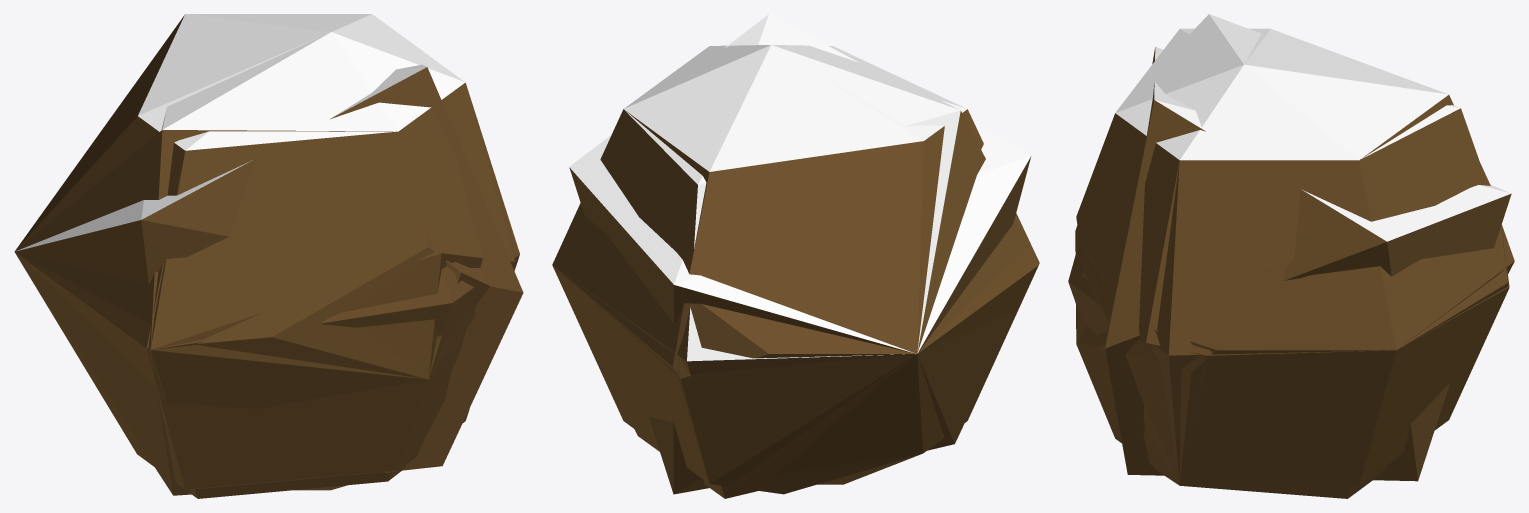
File: Rock_30_Snowy.fbx
The picture shows the model from 3 angles, left to right: view 1: azimuth 30°, elevation 25°; view 2: azimuth 150°, elevation 25°; view 3: azimuth 270°, elevation 25°; orthographic projection. The views are drawn at different scales.
Parts seen in each view (by area): view 1: Rock 30_LOD0_Snowy, Rock 30_LOD1_Snowy, Rock 30_LOD2_Snowy, Rock 30_LOD3_Snowy; view 2: Rock 30_LOD0_Snowy, Rock 30_LOD2_Snowy, Rock 30_LOD3_Snowy, Rock 30_LOD1_Snowy; view 3: Rock 30_LOD1_Snowy, Rock 30_LOD0_Snowy, Rock 30_LOD2_Snowy, Rock 30_LOD3_Snowy.
Part boxes in pixels (x1=…): Rock 30_LOD0_Snowy: x1=15, y1=14, x2=490, y2=490; Rock 30_LOD1_Snowy: x1=150, y1=82, x2=514, y2=498; Rock 30_LOD2_Snowy: x1=14, y1=32, x2=519, y2=495; Rock 30_LOD3_Snowy: x1=15, y1=64, x2=523, y2=470; Rock 30_LOD0_Snowy: x1=554, y1=45, x2=1038, y2=484; Rock 30_LOD2_Snowy: x1=552, y1=45, x2=1039, y2=498; Rock 30_LOD3_Snowy: x1=569, y1=14, x2=1031, y2=494; Rock 30_LOD1_Snowy: x1=552, y1=111, x2=1037, y2=494; Rock 30_LOD1_Snowy: x1=1075, y1=95, x2=1509, y2=485; Rock 30_LOD0_Snowy: x1=1076, y1=28, x2=1509, y2=485; Rock 30_LOD2_Snowy: x1=1068, y1=14, x2=1514, y2=498; Rock 30_LOD3_Snowy: x1=1105, y1=46, x2=1511, y2=481.
Size of the model in its own units: 82.55 by 84.73 by 83.8.
